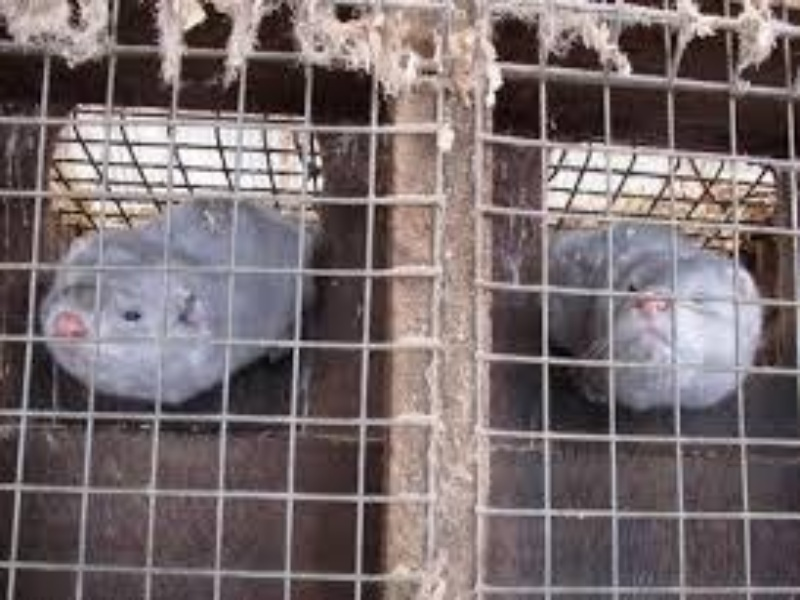minkish: (41, 181, 314, 405), (542, 223, 766, 418)
